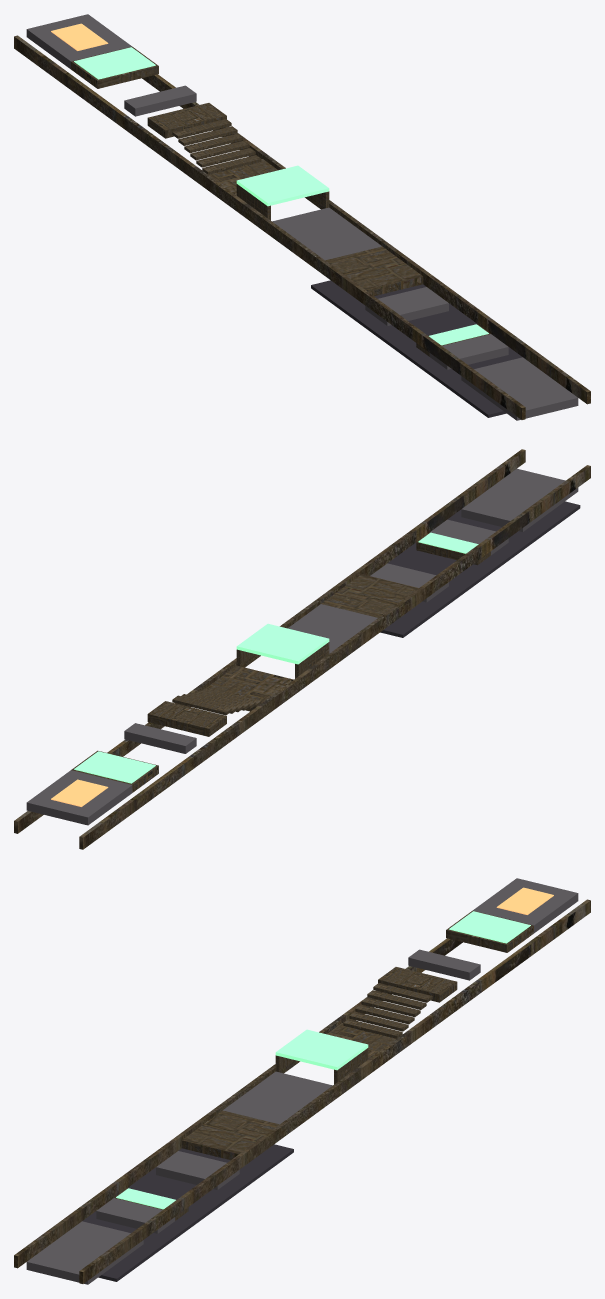
File: demo_course.glb
3 renders of one model, top to bottom at view 1: azimuth 30°, elevation 25°; view 2: azimuth 150°, elevation 25°; view 3: azimuth 330°, elevation 25°, orthographic.
Parts seen in each view (by area): view 1: COL_Rail_L, VIS_Pit, COL_Rail_R, COL_Runway, COL_Walk, COL_Hop, COL_Finish, COL_SlideCeil, COL_DashLand, COL_ComboTake, VIS_ComboTrim, COL_JumpLand (+6 smaller); view 2: COL_Rail_L, VIS_Pit, COL_Rail_R, COL_Finish, COL_Walk, COL_Hop, COL_SlideCeil, COL_Runway, COL_StillPad, COL_ComboTake, VIS_ComboTrim, COL_ComboMid (+5 smaller); view 3: COL_Rail_R, VIS_Pit, COL_Rail_L, COL_Runway, COL_Walk, COL_Hop, COL_Finish, COL_SlideCeil, COL_DashLand, COL_ComboTake, VIS_ComboTrim, COL_JumpLand (+6 smaller).
Part boxes in pixels (left/top/right/bottom): COL_Rail_L: left=14, top=35, right=525, bottom=419; VIS_Pit: left=311, top=280, right=522, bottom=417; COL_Rail_R: left=142, top=74, right=590, bottom=404; COL_Runway: left=272, top=207, right=381, bottom=260; COL_Walk: left=472, top=365, right=578, bottom=420; COL_Hop: left=325, top=246, right=423, bottom=296; COL_Finish: left=26, top=14, right=131, bottom=69; COL_SlideCeil: left=236, top=165, right=329, bottom=206; COL_DashLand: left=365, top=287, right=448, bottom=325; COL_ComboTake: left=147, top=103, right=226, bottom=138; VIS_ComboTrim: left=74, top=47, right=155, bottom=79; COL_JumpLand: left=429, top=334, right=508, bottom=369; COL_Rail_L: left=79, top=465, right=590, bottom=849; VIS_Pit: left=380, top=501, right=580, bottom=637; COL_Rail_R: left=14, top=449, right=525, bottom=833; COL_Finish: left=26, top=770, right=132, bottom=825; COL_Walk: left=473, top=468, right=578, bottom=523; COL_Hop: left=321, top=574, right=418, bottom=617; COL_SlideCeil: left=236, top=623, right=329, bottom=664; COL_Runway: left=288, top=604, right=377, bottom=653; COL_StillPad: left=204, top=665, right=293, bottom=711; COL_ComboTake: left=147, top=701, right=226, bottom=736; VIS_ComboTrim: left=74, top=751, right=155, bottom=783; COL_ComboMid: left=124, top=723, right=196, bottom=753; COL_Rail_R: left=79, top=899, right=590, bottom=1283; VIS_Pit: left=82, top=1144, right=293, bottom=1281; COL_Rail_L: left=14, top=938, right=462, bottom=1268; COL_Runway: left=223, top=1071, right=332, bottom=1124; COL_Walk: left=26, top=1229, right=132, bottom=1284; COL_Hop: left=181, top=1110, right=279, bottom=1160; COL_Finish: left=473, top=878, right=578, bottom=933; COL_SlideCeil: left=275, top=1029, right=368, bottom=1070; COL_DashLand: left=156, top=1151, right=239, bottom=1189; COL_ComboTake: left=378, top=967, right=457, bottom=1002; VIS_ComboTrim: left=449, top=911, right=530, bottom=943; COL_JumpLand: left=96, top=1198, right=175, bottom=1233.
Size of the model in its own units: 12 by 4.8 by 115.
5 materials, 1 textured.
